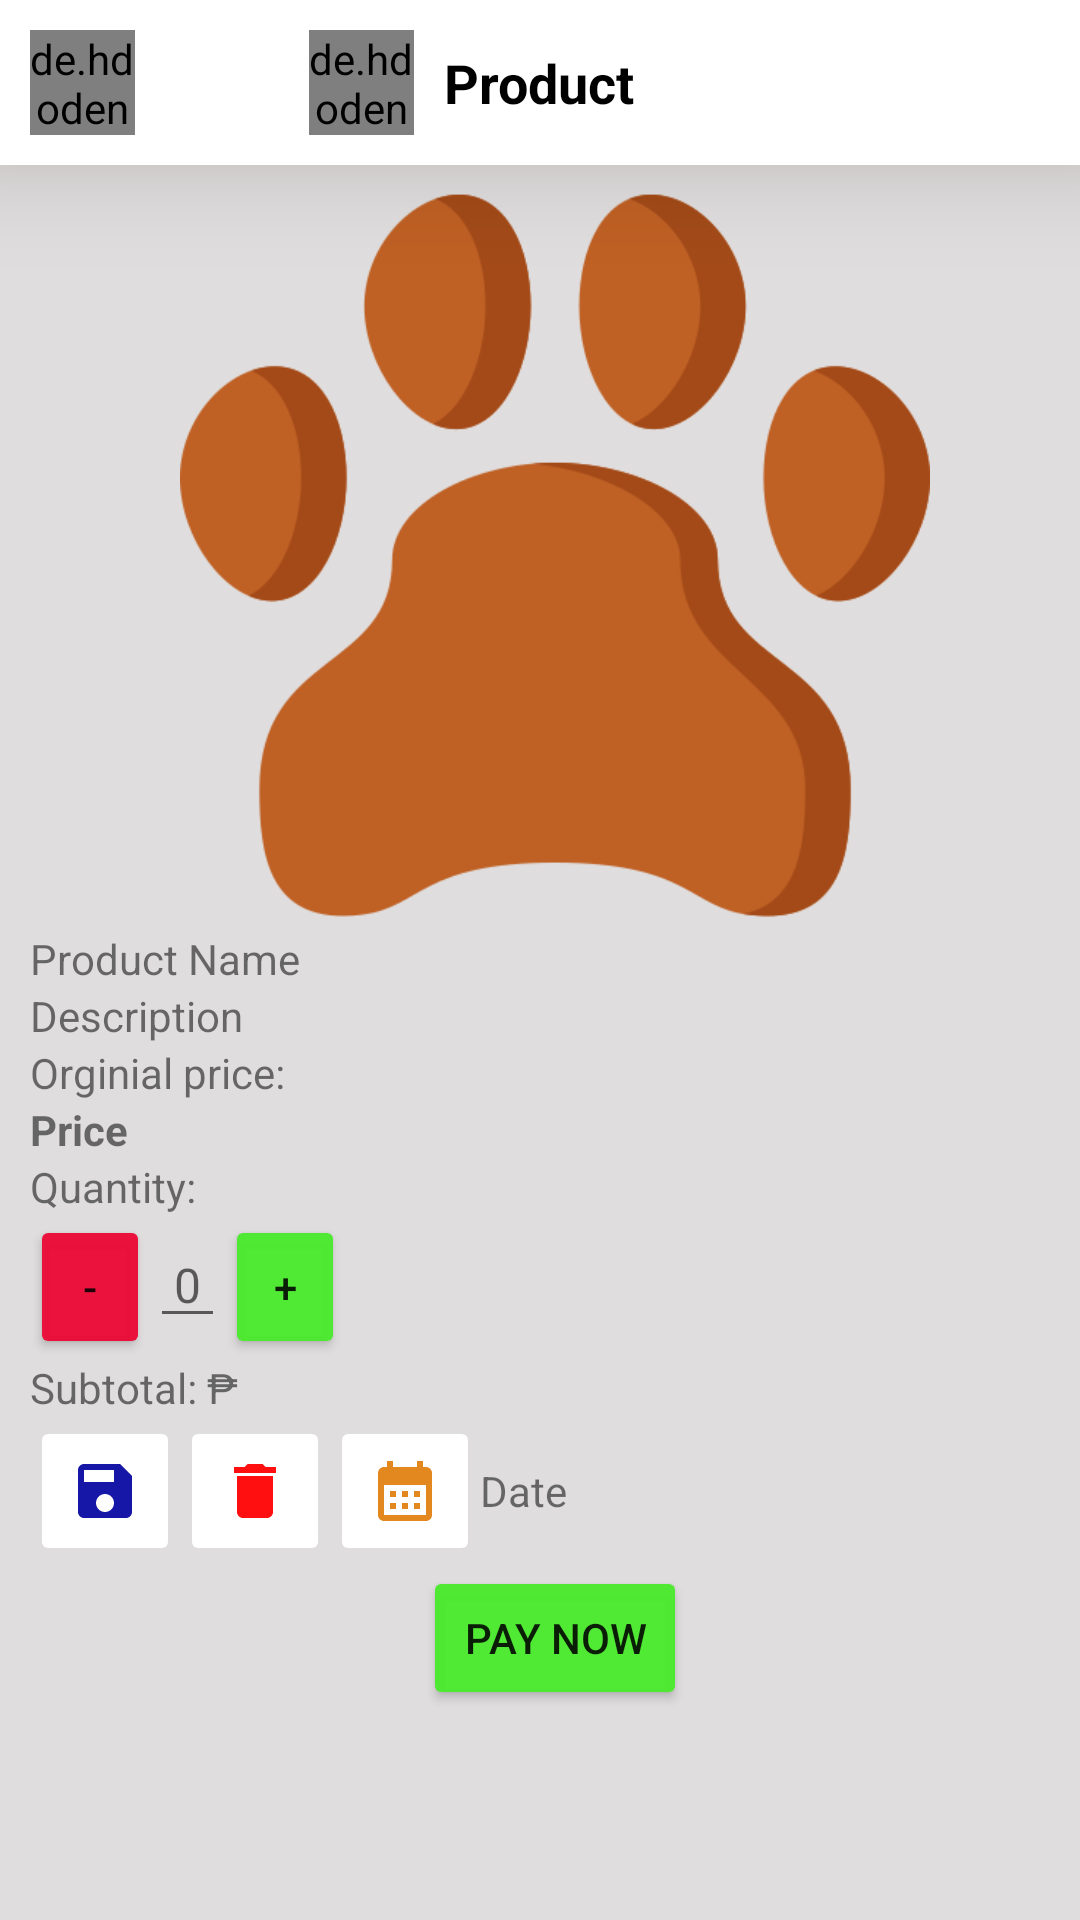

Where to tap for icons on this 1080w x 1920h app screen, as (x=x, y=y):
calendar month: (x=405, y=1491)
delete: (x=255, y=1491)
save: (x=105, y=1491)
